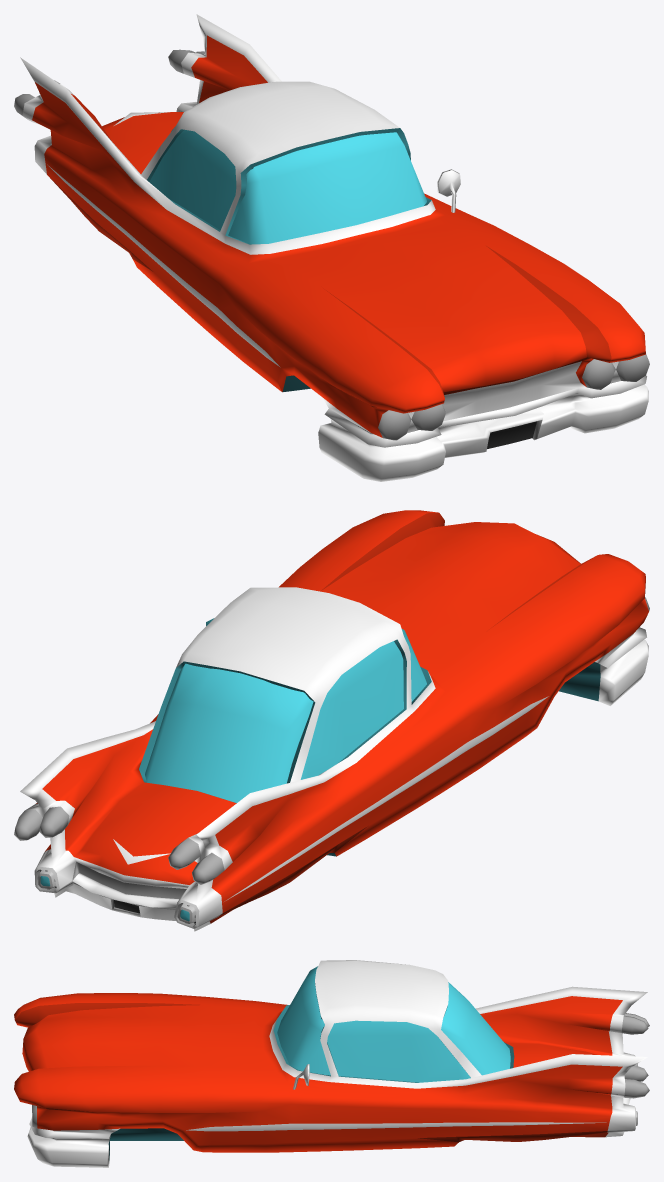
Rendered from Caddie_body.fbx.
3 renders of one model, top to bottom at view 1: azimuth 30°, elevation 25°; view 2: azimuth 150°, elevation 25°; view 3: azimuth 270°, elevation 25°, orthographic. The views are drawn at different scales.
Parts seen in each view (by area): view 1: Caddy_body, headlights_front; view 2: Caddy_body, brakelights_rear; view 3: Caddy_body, brakelights_rear.
Part boxes in pixels (left/top/right/bottom): Caddy_body: left=20, top=14, right=648, bottom=481; headlights_front: left=378, top=354, right=649, bottom=440; Caddy_body: left=20, top=510, right=648, bottom=931; brakelights_rear: left=14, top=806, right=224, bottom=884; Caddy_body: left=14, top=960, right=647, bottom=1167; brakelights_rear: left=621, top=1013, right=649, bottom=1098.
Size of the model in its own units: 258 by 150 by 635.
